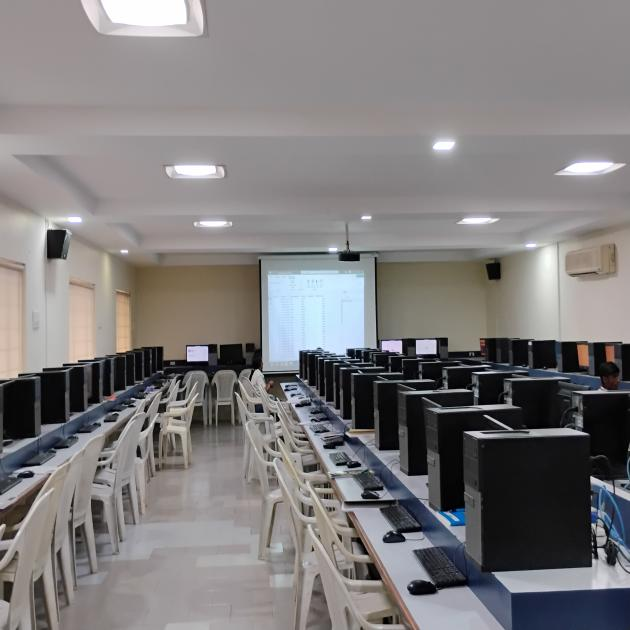air conditioner: (562, 238, 630, 308)
chair: (18, 472, 110, 630)
cpu: (460, 411, 630, 594), (398, 382, 482, 488), (348, 366, 392, 450), (6, 363, 49, 445), (60, 355, 95, 426), (102, 354, 124, 403)
light: (72, 3, 250, 56), (557, 130, 630, 209), (158, 141, 239, 209), (458, 200, 509, 252), (185, 216, 258, 249), (422, 134, 476, 170)
projector: (256, 252, 393, 379)
speaker: (42, 213, 85, 280)
